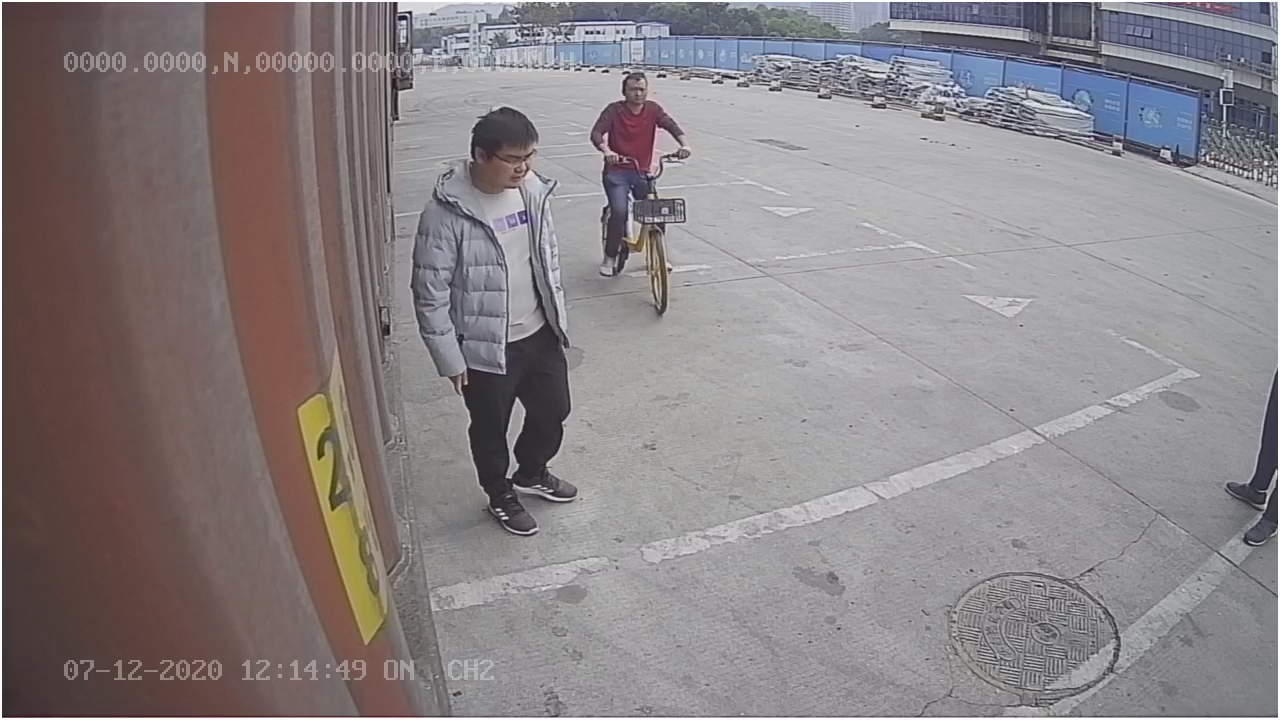person: (408, 106, 579, 533)
